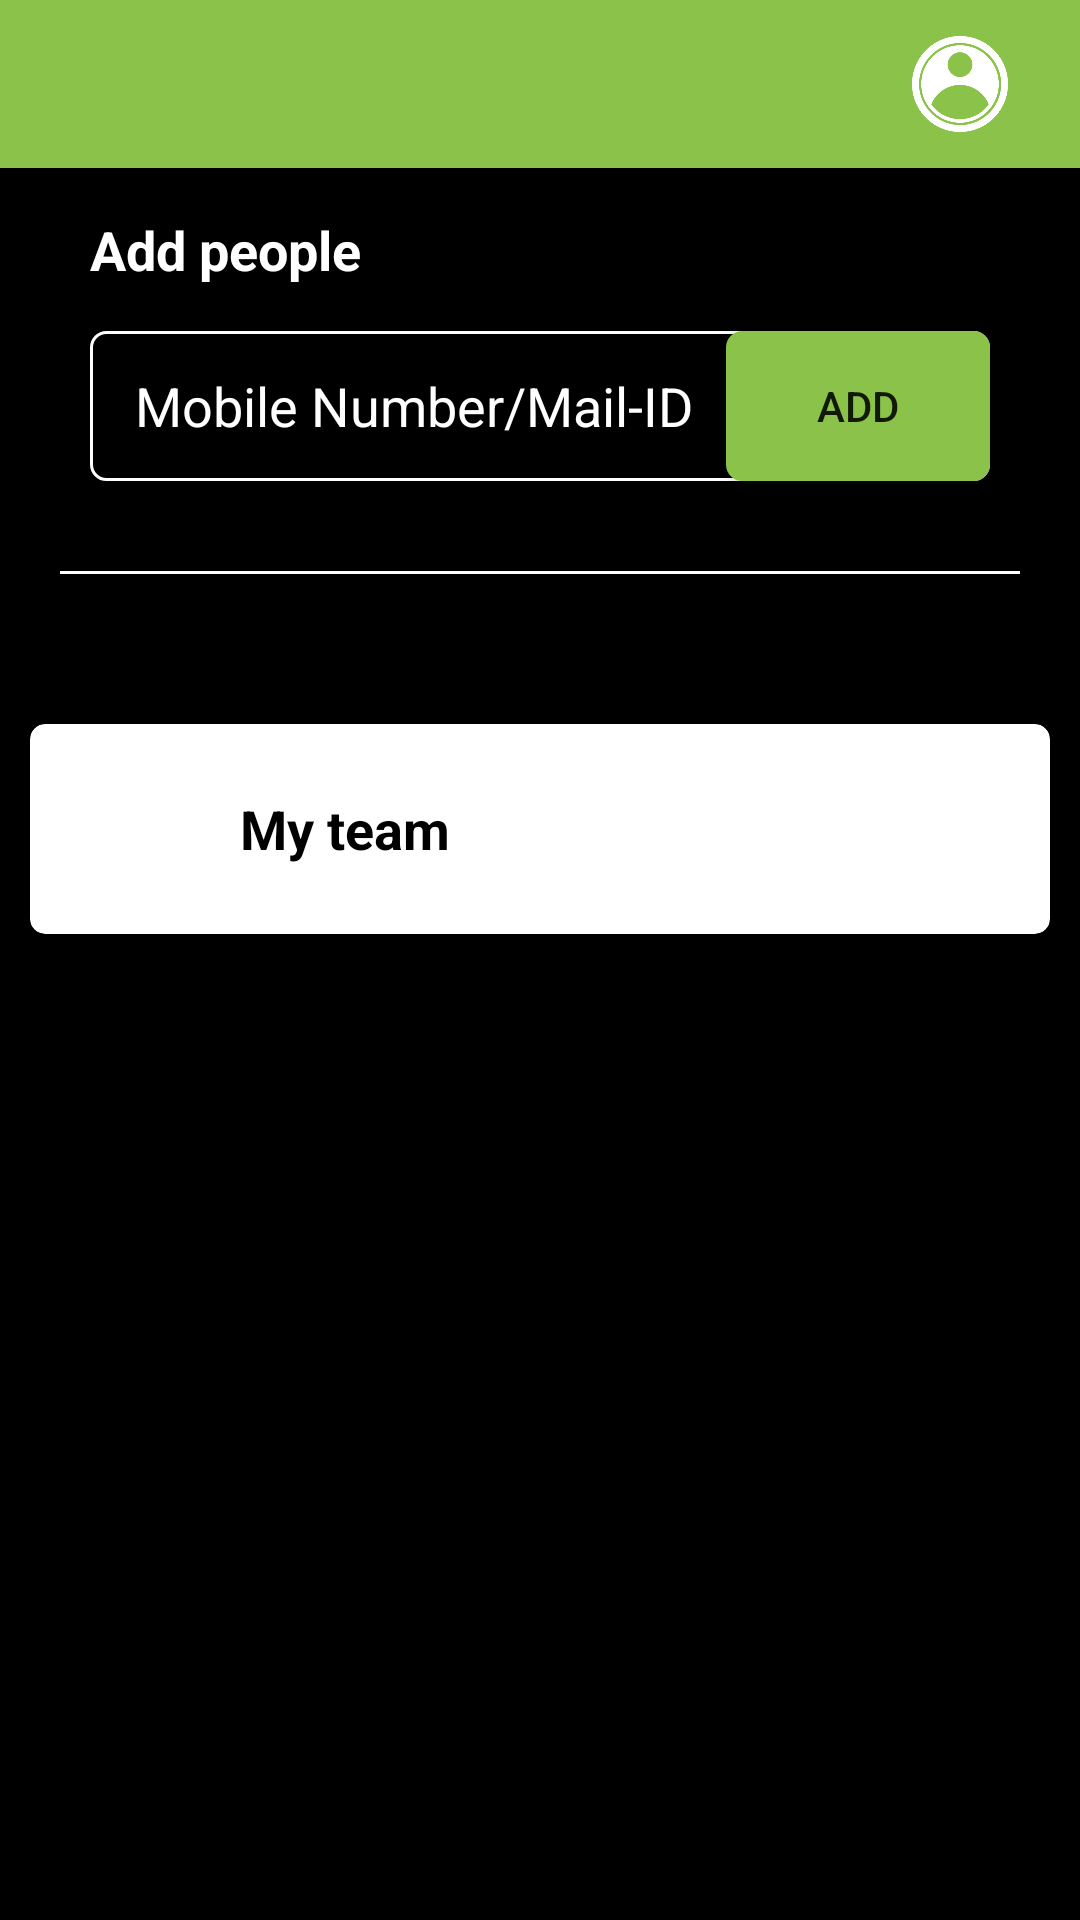

Icon bounding boxes for this 1080*1920 phone screenshot, format (x1, y1, x2, y2):
userima: (912, 36, 1008, 132)
